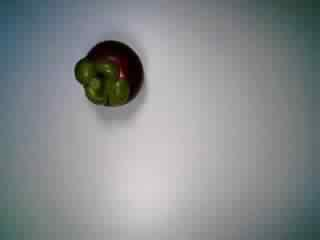mangosteen: (70, 37, 148, 113)
